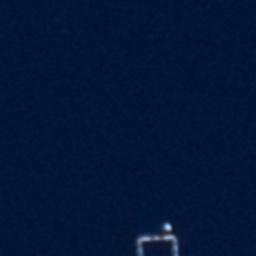square_solid: (130, 227, 185, 256)
